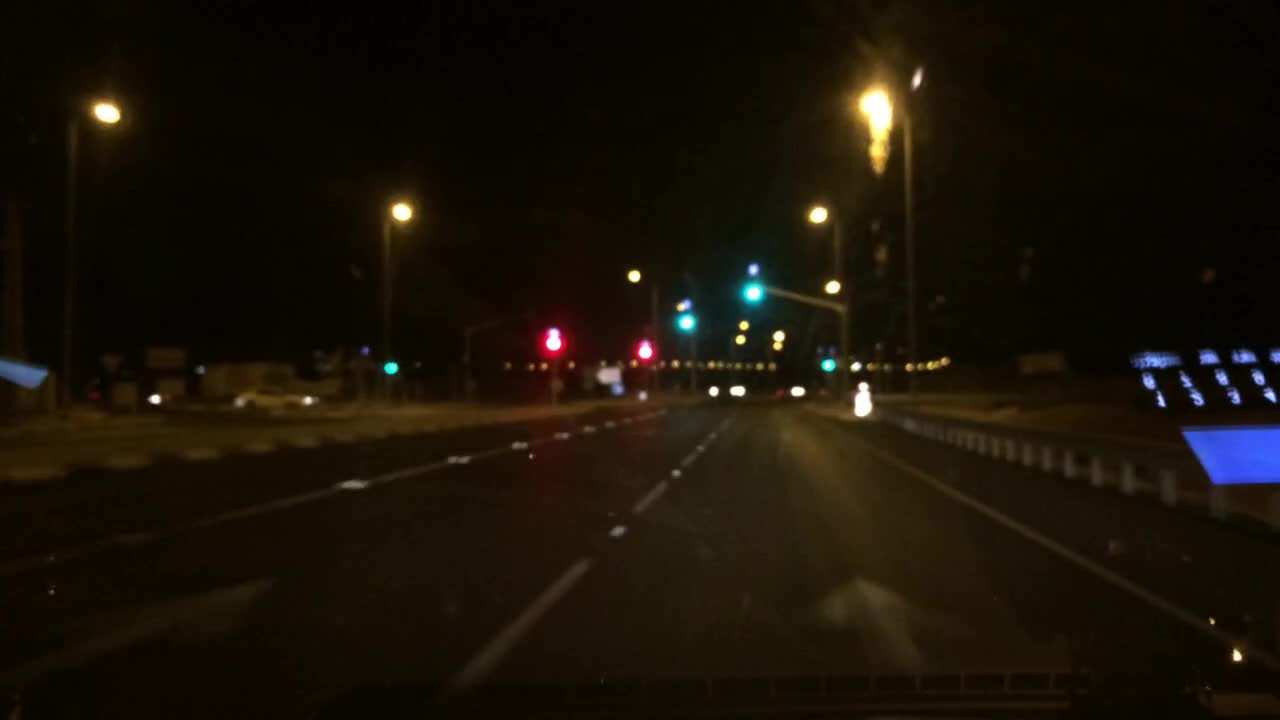car: (237, 381, 319, 414), (704, 381, 748, 400), (774, 382, 810, 402)
traffic light: (676, 308, 697, 338), (740, 281, 764, 307), (640, 337, 654, 362), (549, 325, 562, 350)
